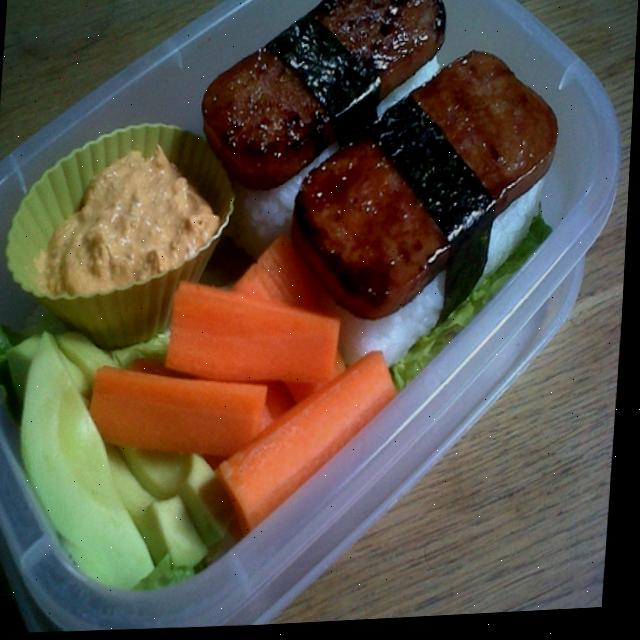寿司卷物: (0, 0, 611, 606)
